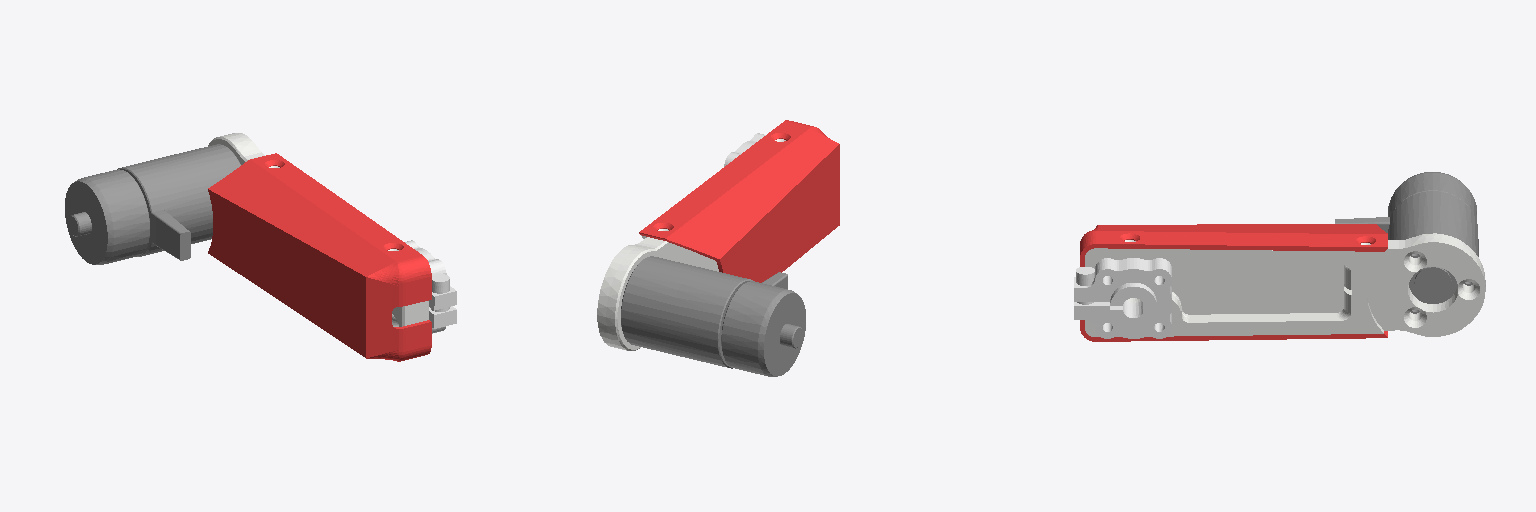
Rendered from upper_leg_right_rear.obj.
The picture shows the model from 3 angles: view 1: azimuth 30°, elevation 25°; view 2: azimuth 150°, elevation 25°; view 3: azimuth 270°, elevation 25°; orthographic projection.
Visible parts, largest first — view 1: upperleg.005; view 2: upperleg.005; view 3: upperleg.005.
Boxes of the visible parts, x1=… form: upperleg.005: x1=65, y1=133, x2=456, y2=361; upperleg.005: x1=597, y1=120, x2=839, y2=376; upperleg.005: x1=1074, y1=172, x2=1485, y2=341.
Size of the model in its own units: 0.0656 by 0.0289 by 0.1098.